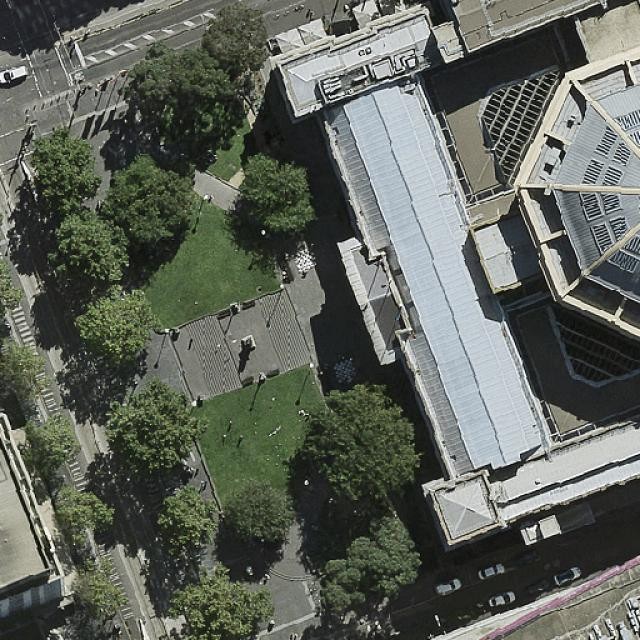Bike-Symbols: (72, 69, 88, 82)
